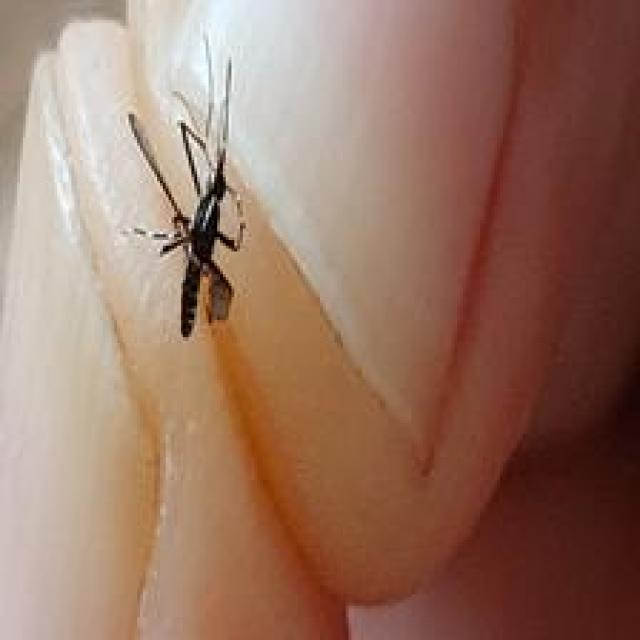Aedes albopictus: (121, 33, 250, 338)
